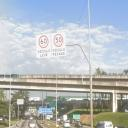speed_limit_50: (53, 34, 63, 47)
speed_limit_60: (38, 36, 48, 48)
